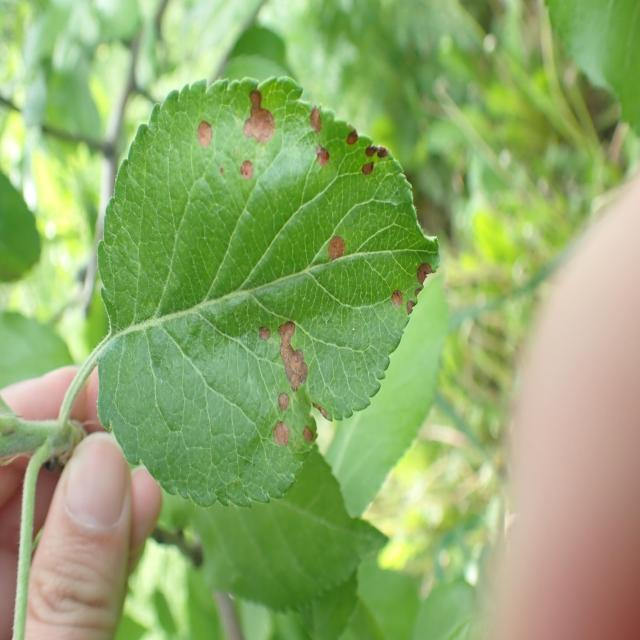Black Rot: (275, 312, 319, 400), (399, 246, 447, 320), (239, 84, 291, 148), (357, 138, 394, 194), (185, 99, 213, 168), (296, 84, 330, 137), (268, 377, 302, 422), (260, 419, 296, 455), (322, 234, 352, 274), (341, 105, 366, 151), (380, 278, 404, 325), (233, 150, 264, 186), (254, 302, 274, 353), (315, 140, 339, 182), (294, 415, 324, 445)
